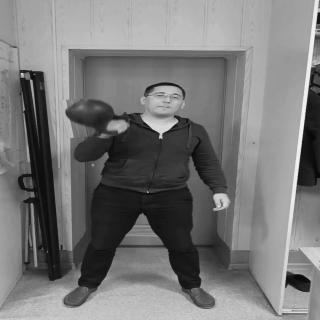kettlebell: (63, 98, 131, 139)
